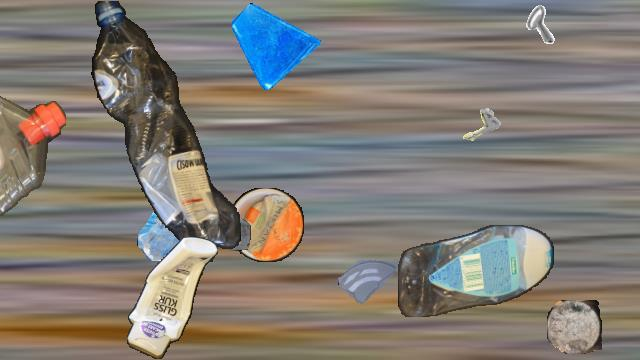glass: (232, 1, 320, 89), (137, 179, 219, 261), (185, 186, 251, 252), (338, 245, 400, 307)
metal: (494, 1, 556, 63), (445, 99, 505, 159)
plastic: (89, 1, 245, 261), (398, 225, 554, 317), (0, 96, 66, 264), (127, 237, 217, 359), (229, 188, 303, 262)
wood: (547, 300, 601, 354)
